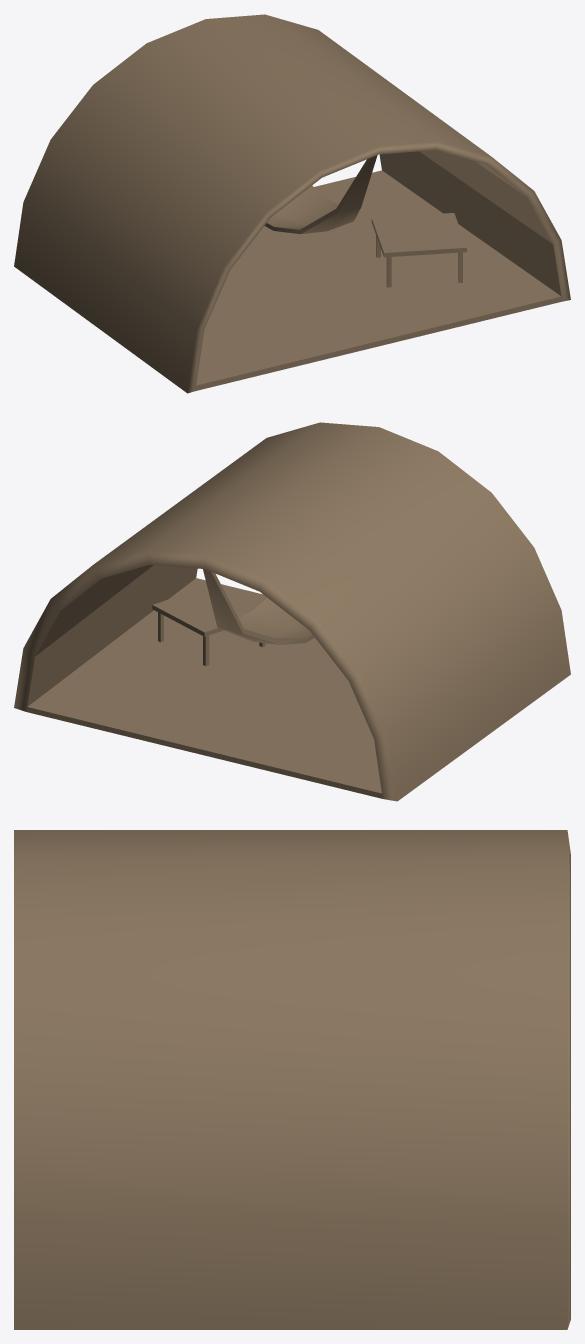
The model's file is SM_Hut-2_Other_01.fbx.
3 renders of one model, top to bottom at view 1: azimuth 30°, elevation 25°; view 2: azimuth 150°, elevation 25°; view 3: azimuth 270°, elevation 25°, orthographic. The views are drawn at different scales.
Parts seen in each view (by area): view 1: pCube24; view 2: pCube24; view 3: pCube24.
Part boxes in pixels (left/top/right/bottom): pCube24: left=14, top=14, right=570, bottom=393; pCube24: left=14, top=422, right=570, bottom=801; pCube24: left=14, top=830, right=570, bottom=1329.
Size of the model in its own units: 5.29 by 2.65 by 4.17.
